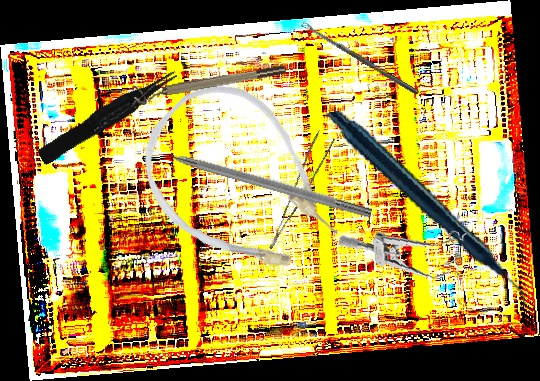Cannula: (115, 60, 366, 310)
Fixation Ring: (131, 62, 289, 107)
Handpiece: (325, 84, 529, 335)
Hook Surgical: (143, 140, 374, 220)
Speculum: (337, 220, 473, 291)
Surgical Spoon: (301, 20, 420, 96)
Tissue Forceps: (33, 67, 185, 166), (250, 129, 341, 250)
